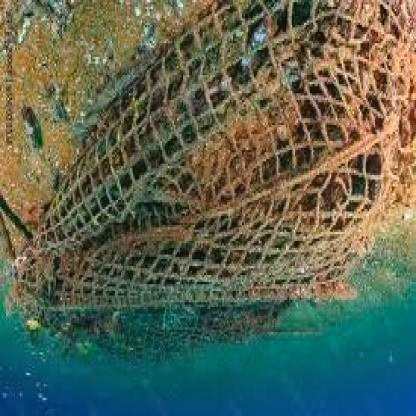net: (17, 3, 402, 318)
